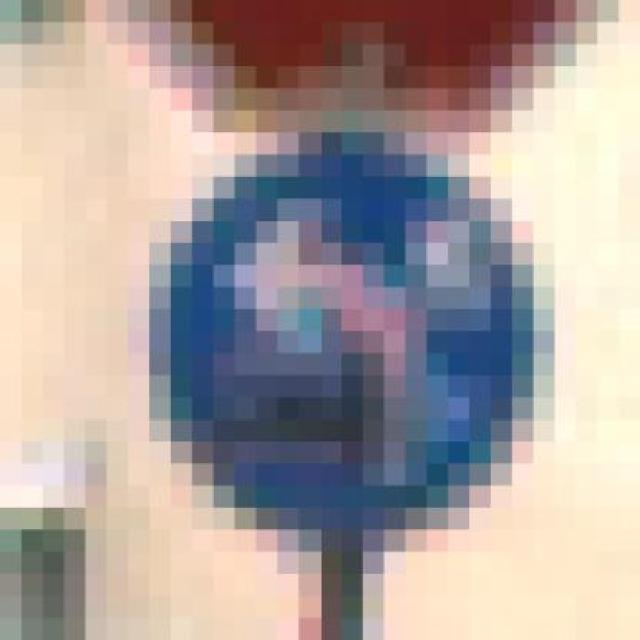Turn left ahead: (149, 132, 576, 574)
